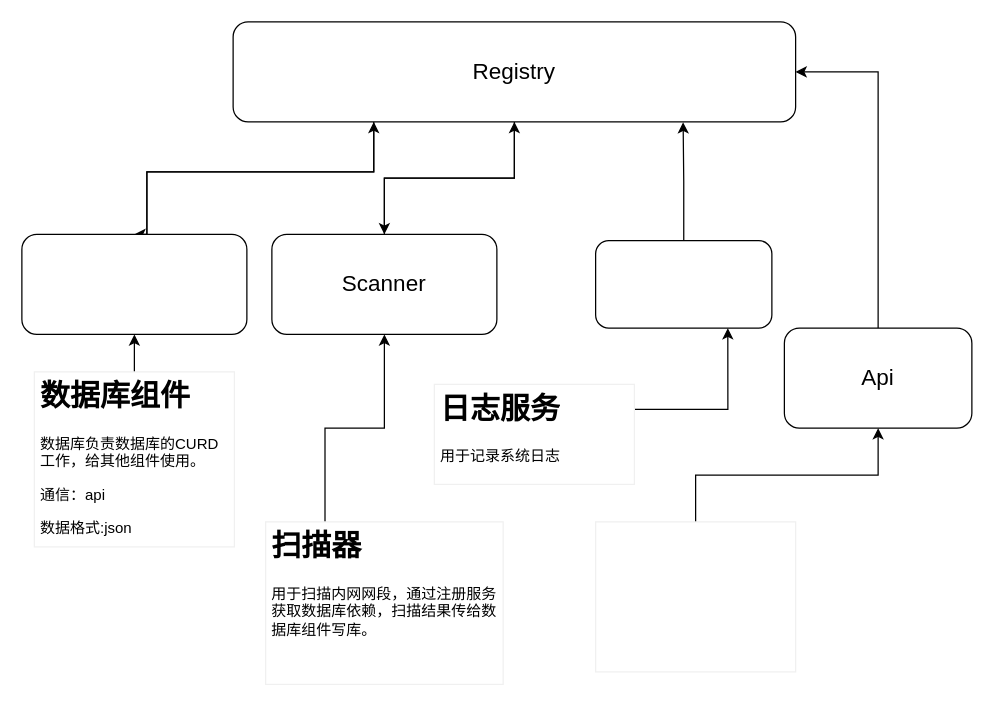
This 994x706 diagram has some shape labels left out. The centre of each missing label's shape, as x and y in pixels:
"Logger" goes at point (683, 283).
"SQL" goes at point (134, 283).
"接口服务 API用于给Nginx提供负责均衡ip数据" goes at point (695, 596).
